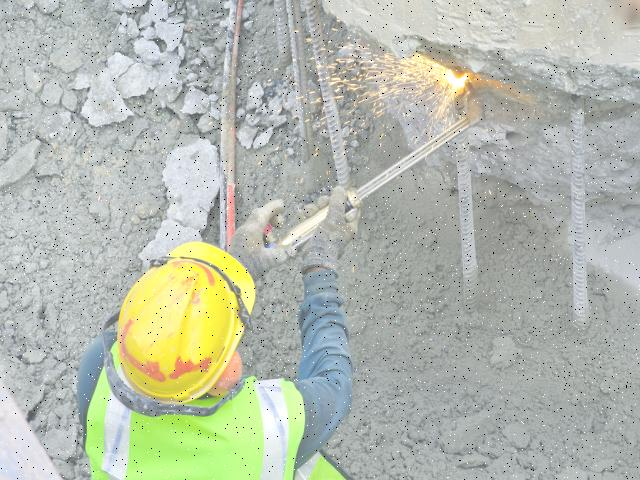Helmet: (114, 235, 257, 411)
